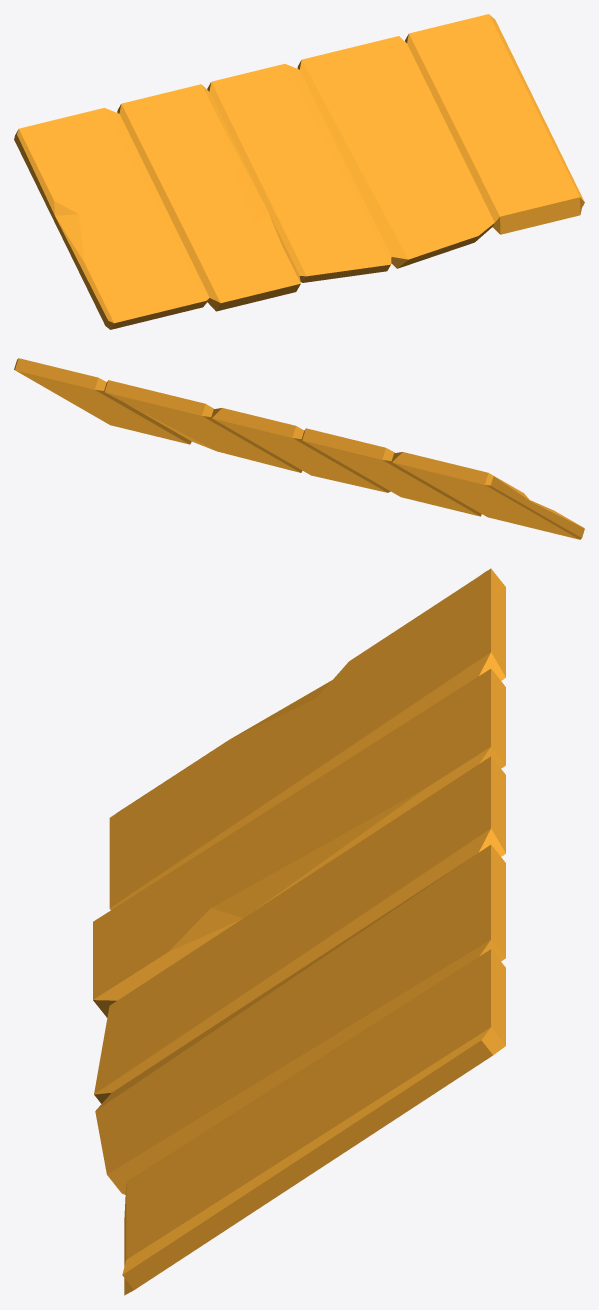
File: SM_Roof_Stone_Slate_Fantasy.fbx
3 renders of one model, top to bottom at view 1: azimuth 30°, elevation 25°; view 2: azimuth 150°, elevation 25°; view 3: azimuth 270°, elevation 25°, orthographic. The views are drawn at different scales.
Visible parts, largest first — view 1: SM_Roof_Stone_Slate_Fantasy; view 2: SM_Roof_Stone_Slate_Fantasy; view 3: SM_Roof_Stone_Slate_Fantasy.
Boxes of the visible parts, <box> form: SM_Roof_Stone_Slate_Fantasy: <box>14,14,584,329</box>; SM_Roof_Stone_Slate_Fantasy: <box>14,358,584,539</box>; SM_Roof_Stone_Slate_Fantasy: <box>93,568,505,1295</box>.
Size of the model in its own units: 3 by 0.8363 by 1.12.
